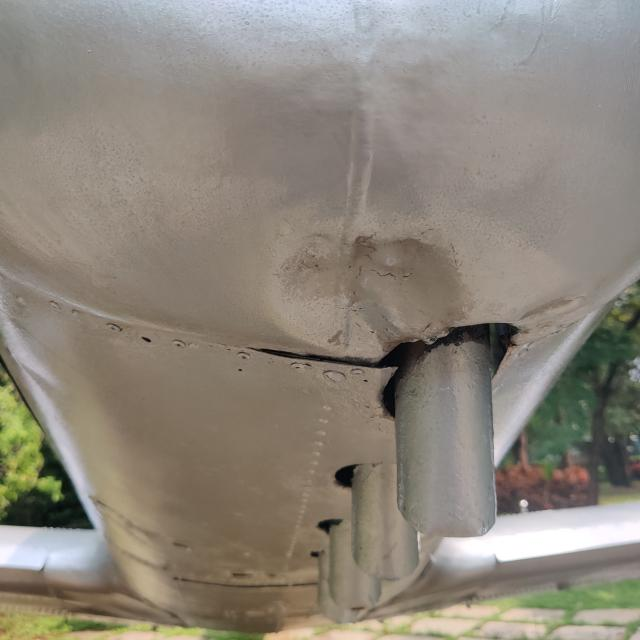dent: (246, 203, 487, 373), (506, 275, 593, 344)
